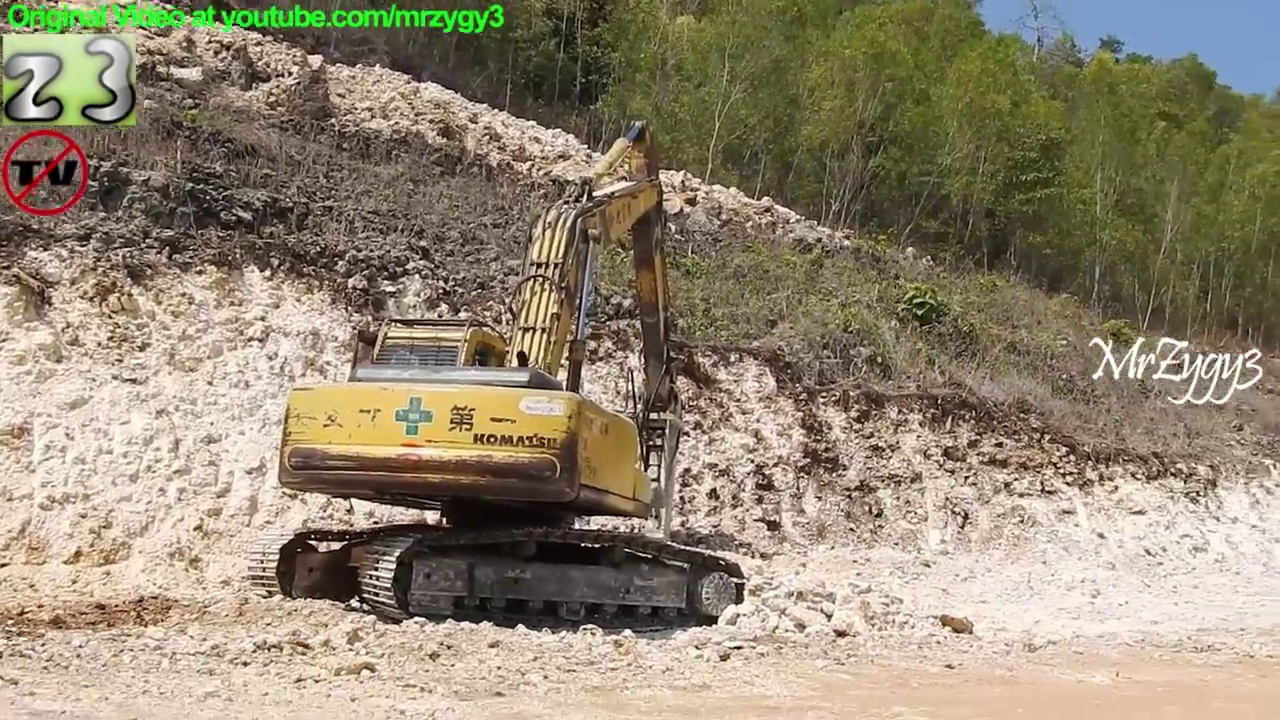excavator breaker: (244, 114, 754, 641)
